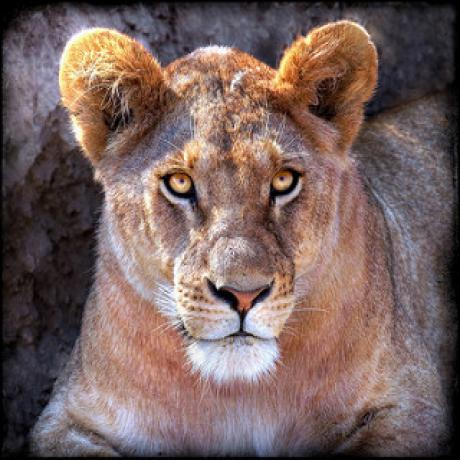Lion: (26, 17, 458, 460)
